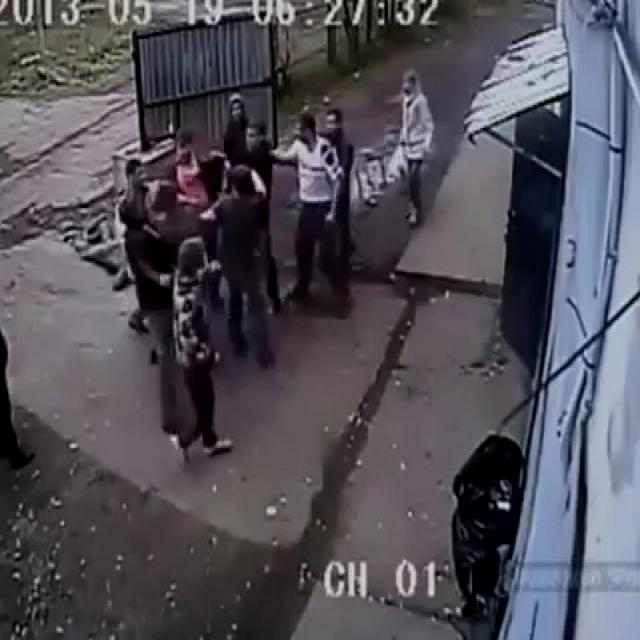fight: (174, 126, 281, 369), (242, 106, 354, 318), (124, 177, 184, 309)
